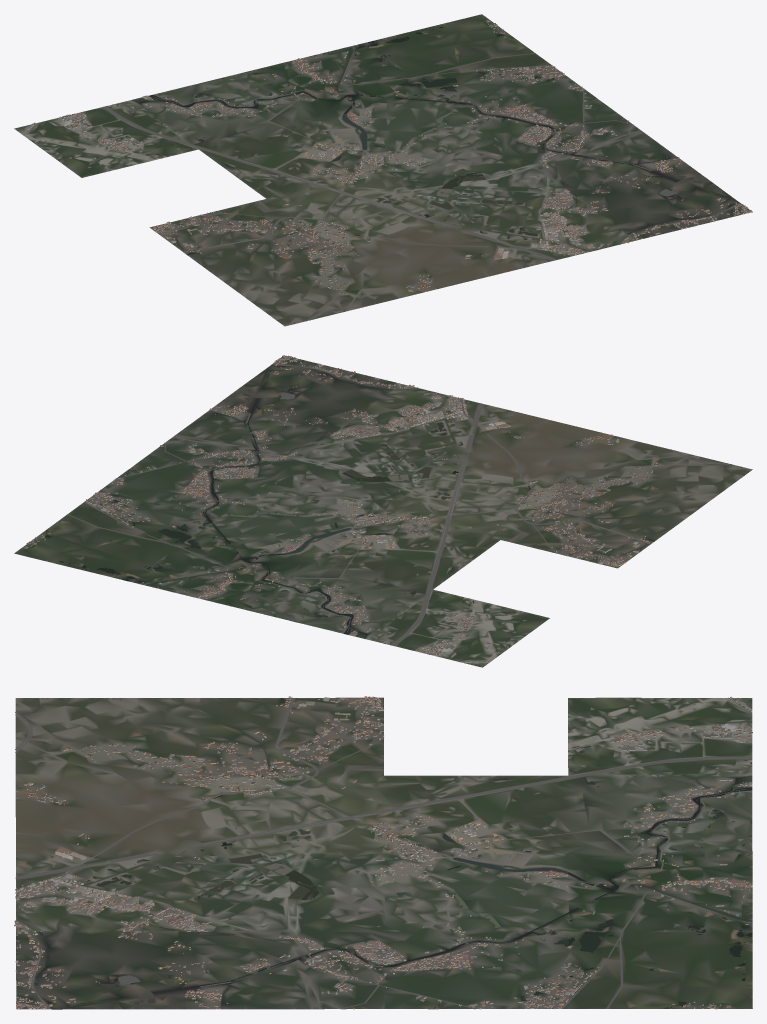
The picture shows the model from 3 angles, top to bottom: view 1: azimuth 30°, elevation 25°; view 2: azimuth 150°, elevation 25°; view 3: azimuth 270°, elevation 25°; orthographic projection. The views are drawn at different scales.
Parts seen in each view (by area): view 1: ground, buildings, water, roads; view 2: ground, buildings, water, roads; view 3: ground, buildings, water, roads.
Boxes of the visible parts, <box> form: ground: <box>14,14,752,326</box>; buildings: <box>21,20,752,294</box>; water: <box>45,26,739,292</box>; roads: <box>23,46,743,321</box>; ground: <box>14,356,752,667</box>; buildings: <box>24,355,658,663</box>; water: <box>44,365,656,643</box>; roads: <box>67,362,731,662</box>; ground: <box>15,697,752,1009</box>; buildings: <box>14,696,752,1009</box>; water: <box>34,698,752,1009</box>; roads: <box>15,697,752,1009</box>.
Bounding box in the file's own units: 5620 × 25.07 × 5626.
